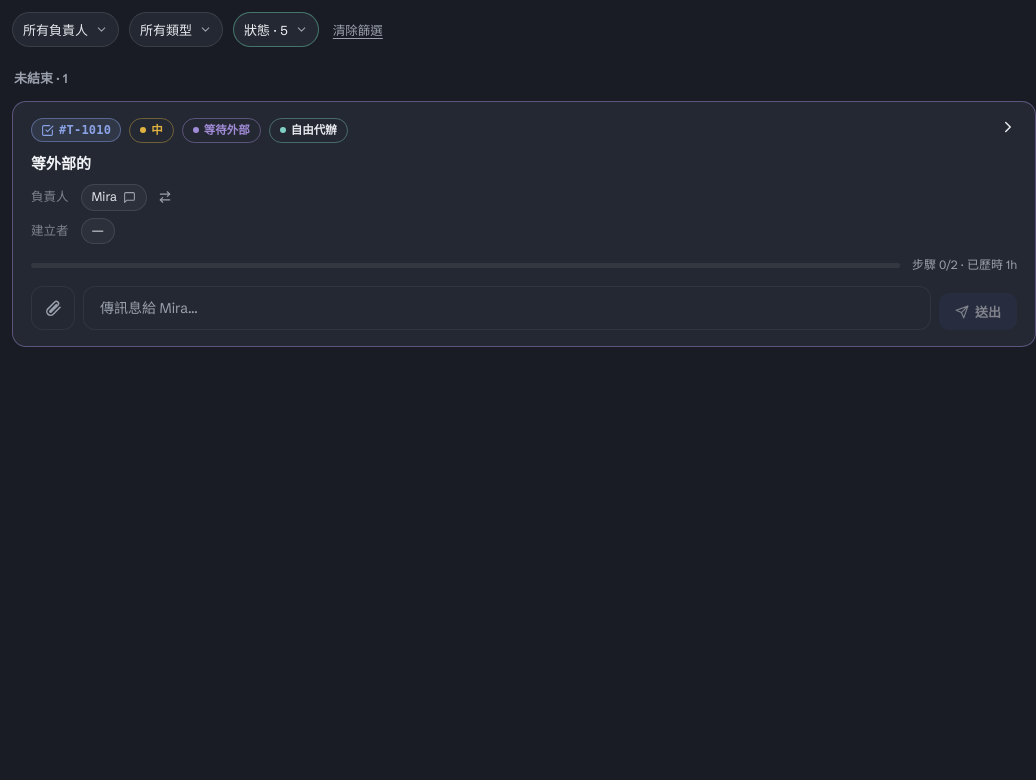
Test: spec ② 狀態 badge → 下拉選單 › 等待外部 jump: on a COLLAPSED waiting_external card, first in the menu, and expands the card
The image size is (1036, 780).
# NOT expanded — this is the state the owner actually clicks from.
Click the button with test id "task-status". click: {"x": 221, "y": 130}
box: x1=182 y1=118 x2=261 y2=143
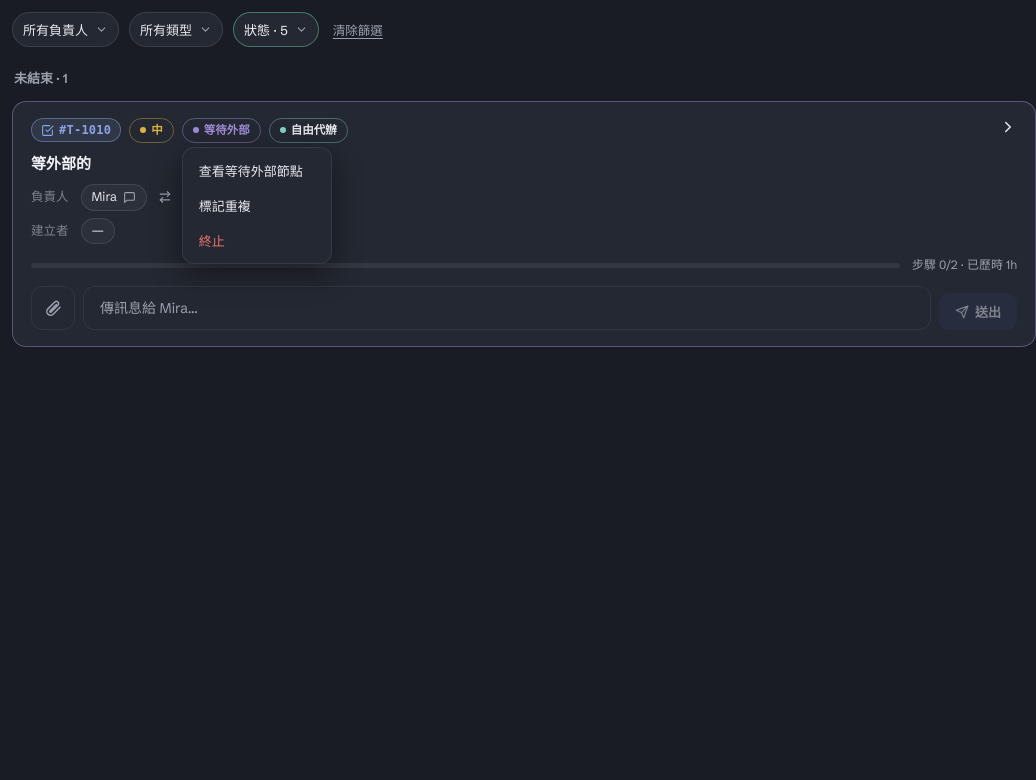
Click the menu item with test id "task-status-jump-external". click: {"x": 257, "y": 170}
box: x1=189 y1=154 x2=325 y2=187
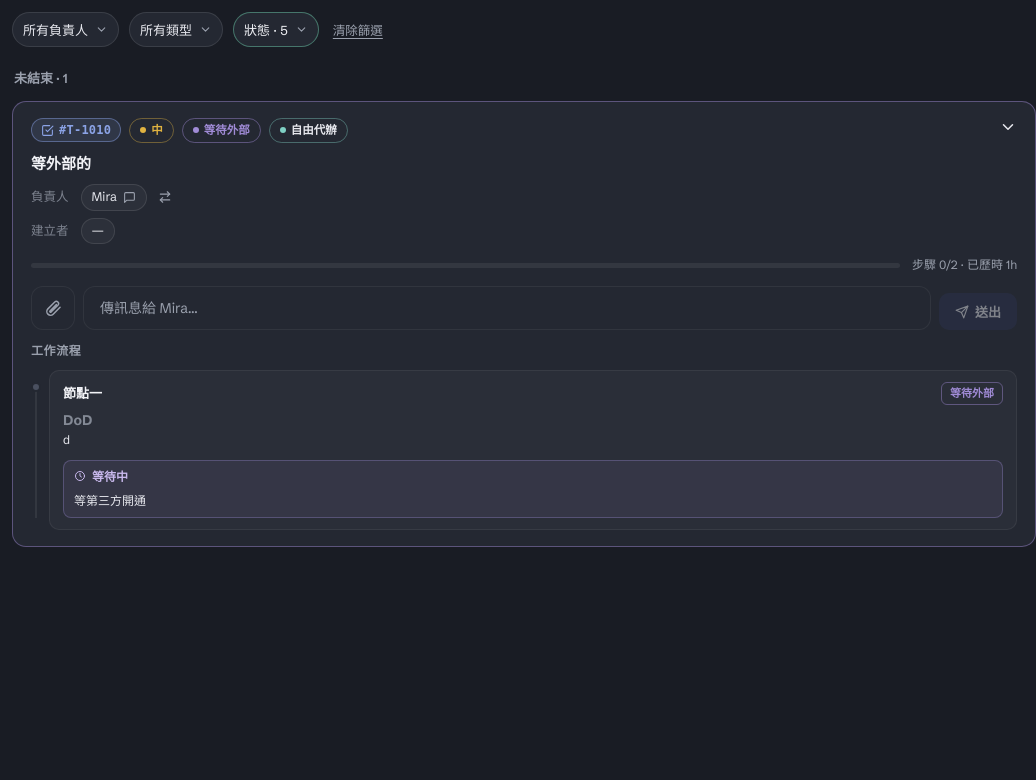
Result: the element with test id "task-step" is shown at x1=49 y1=370 x2=1017 y2=530
